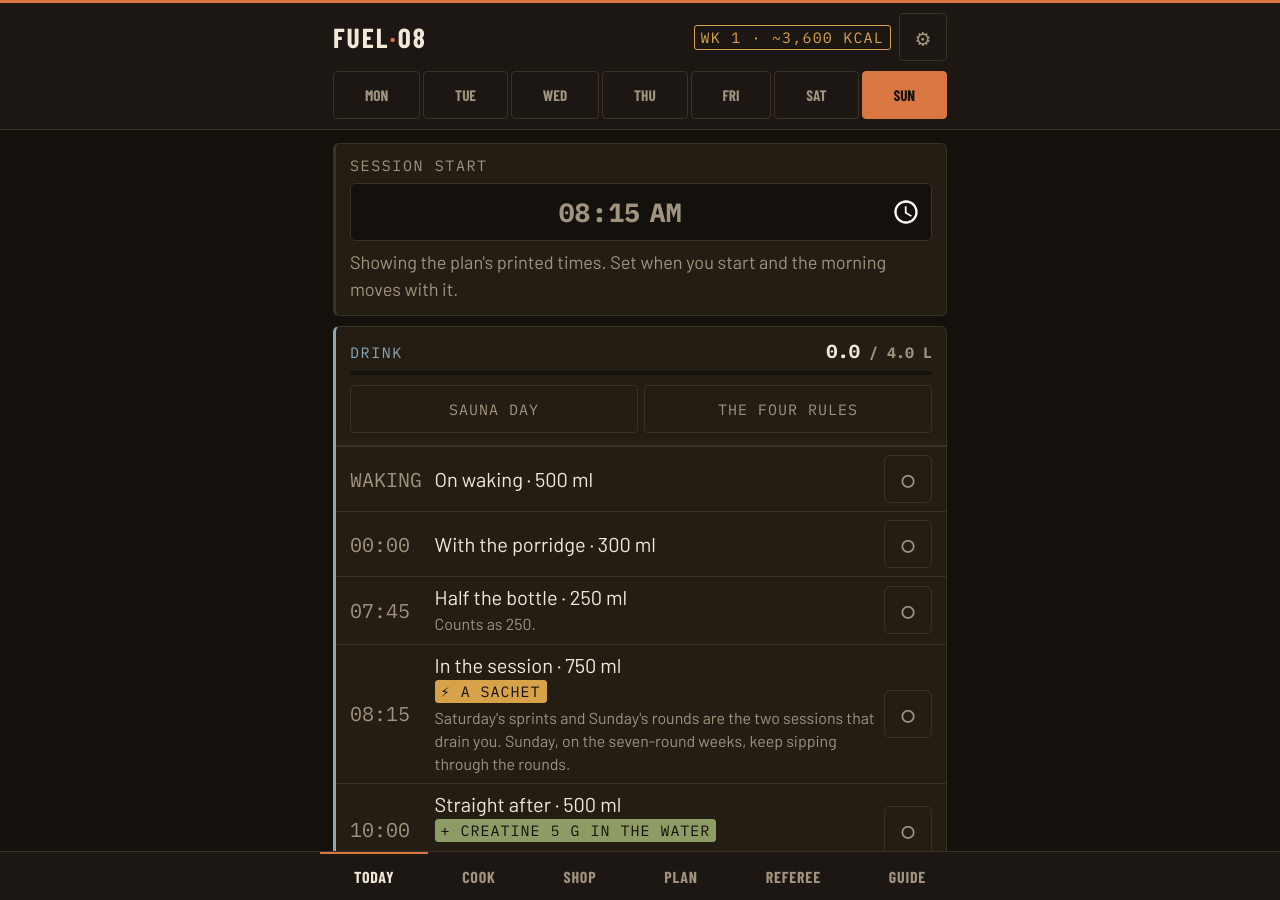
Test: Fuel · Optimal 8 Fighter › lights the waist rule when the waist outruns the tape
Click the button "REFEREE": (793, 876) [732, 852, 855, 899]
(page scrolled)
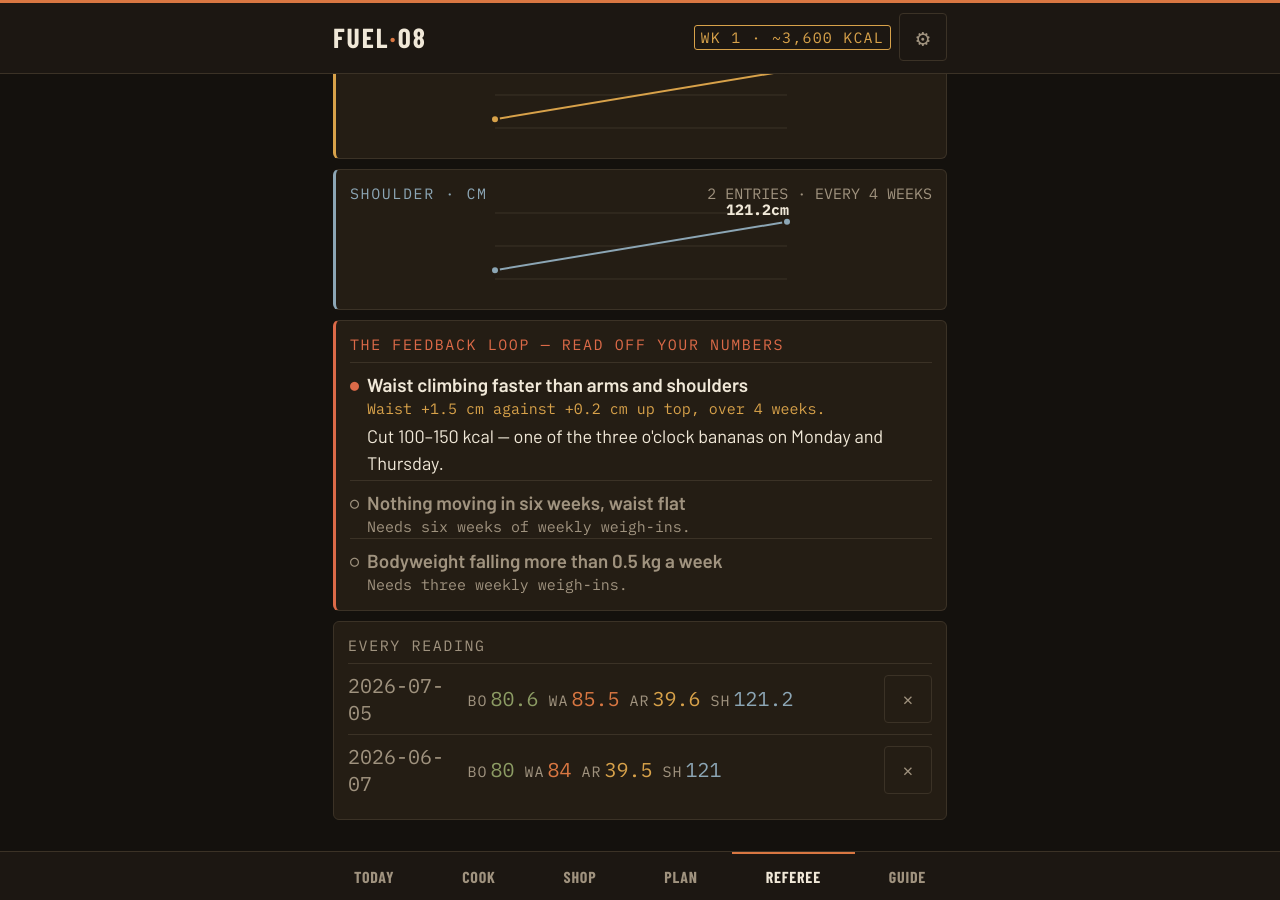
Expected: the text "Waist +1.5 cm against +0.2 cm up top, over 4 weeks." is shown, [367, 399, 826, 418]
Expected: the text "one of the three o'clock bananas on Monday and Thursday" is shown, [367, 425, 883, 474]
